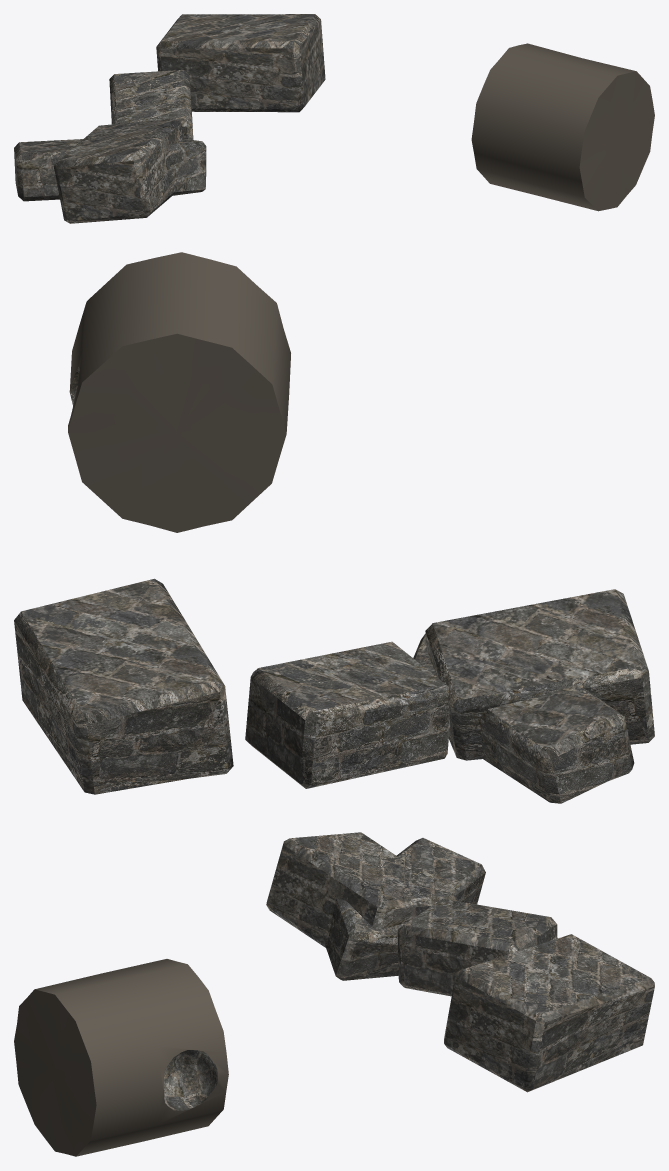
The model's file is ancient-fragments-v01.glb.
3 renders of one model, top to bottom at view 1: azimuth 30°, elevation 25°; view 2: azimuth 150°, elevation 25°; view 3: azimuth 270°, elevation 25°, orthographic. The views are drawn at different scales.
Parts seen in each view (by area): view 1: ancient-fragments; view 2: ancient-fragments; view 3: ancient-fragments.
Part boxes in pixels (<box>): ancient-fragments: <box>14,14,654,223</box>; ancient-fragments: <box>14,252,654,803</box>; ancient-fragments: <box>14,832,654,1156</box>.
Bounding box in the file's own units: 3.2 × 0.8006 × 2.96.
Materials: 1 (1 with a texture image).
